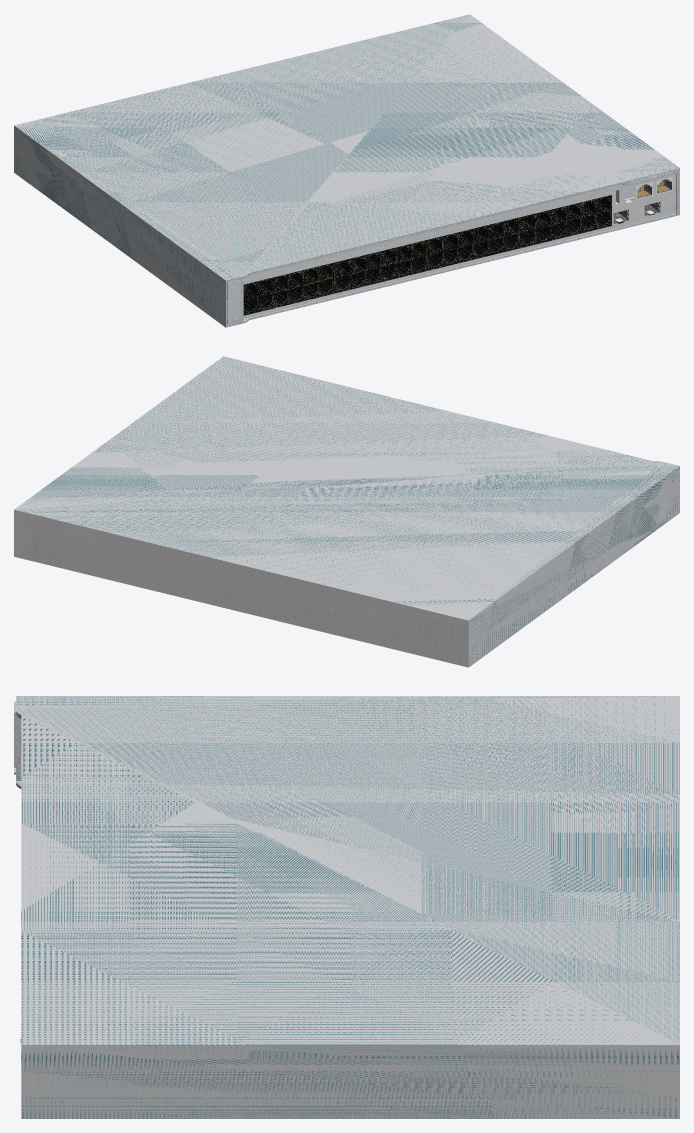
File: 2960glb.glb
The picture shows the model from 3 angles, top to bottom: view 1: azimuth 30°, elevation 25°; view 2: azimuth 150°, elevation 25°; view 3: azimuth 270°, elevation 25°; orthographic projection. The views are drawn at different scales.
Parts seen in each view (by area): view 1: group_0; view 2: group_0; view 3: group_0.
Part boxes in pixels (left/top/right/bottom): group_0: left=14, top=14, right=679, bottom=327; group_0: left=14, top=356, right=679, bottom=667; group_0: left=14, top=696, right=679, bottom=1118.
Size of the model in its own units: 2.31 by 0.2281 by 1.86.
